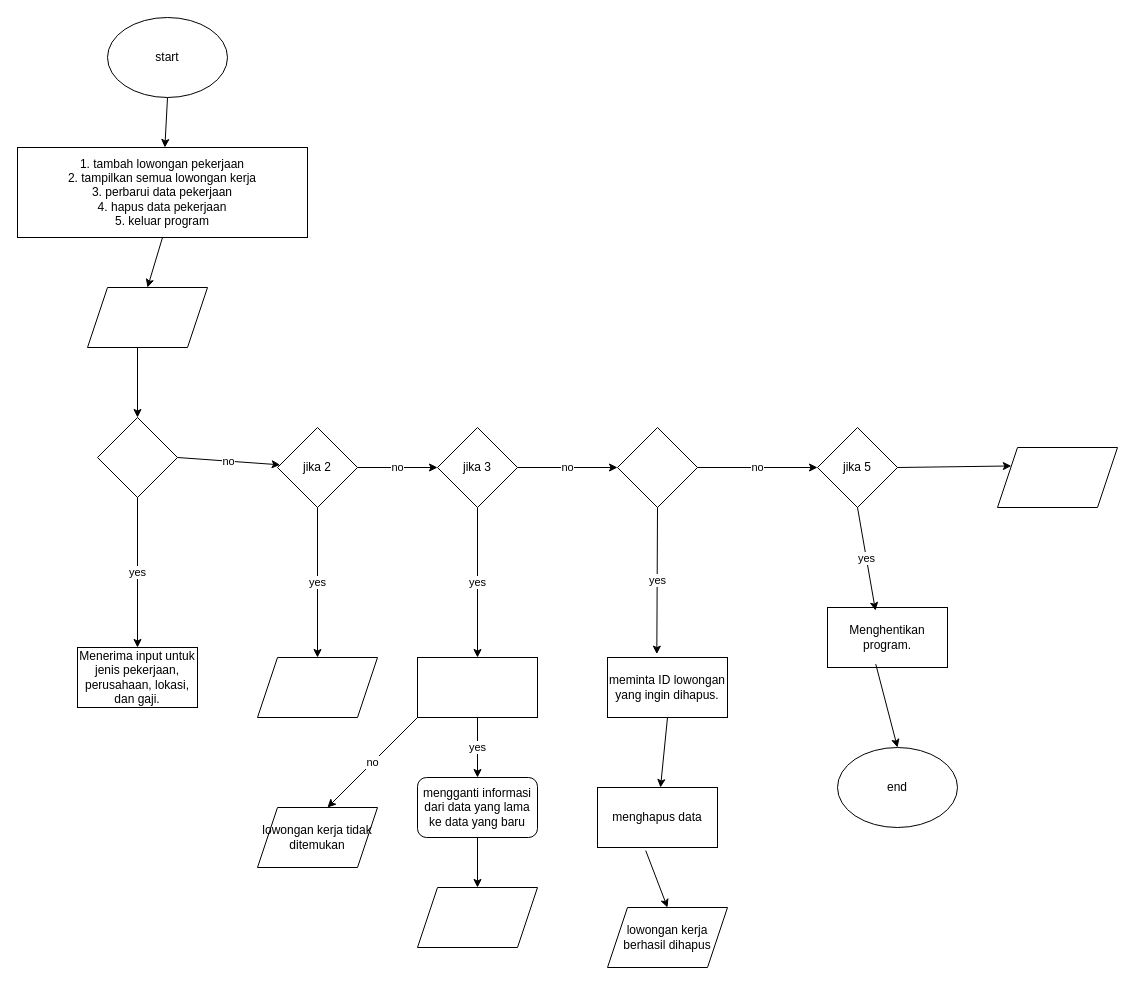
Some shapes in this 1135 by 993 pixel diagram are drawn without their labels. Here are the shapes that lost their labels. From the top down, the centre of each, then its label:
the point at 147,317: pilih opsi(1-5)
the point at 137,457: jika 1
the point at 657,467: jika 4
the point at 1057,477: pilihan tidak valid
the point at 317,687: Menampilkan semua lowongan kerja yang tersimpan
the point at 477,687: Meminta ID lowongan yang ingin diperbarui.
the point at 477,917: lowongan kerja berhasil diperbarui
